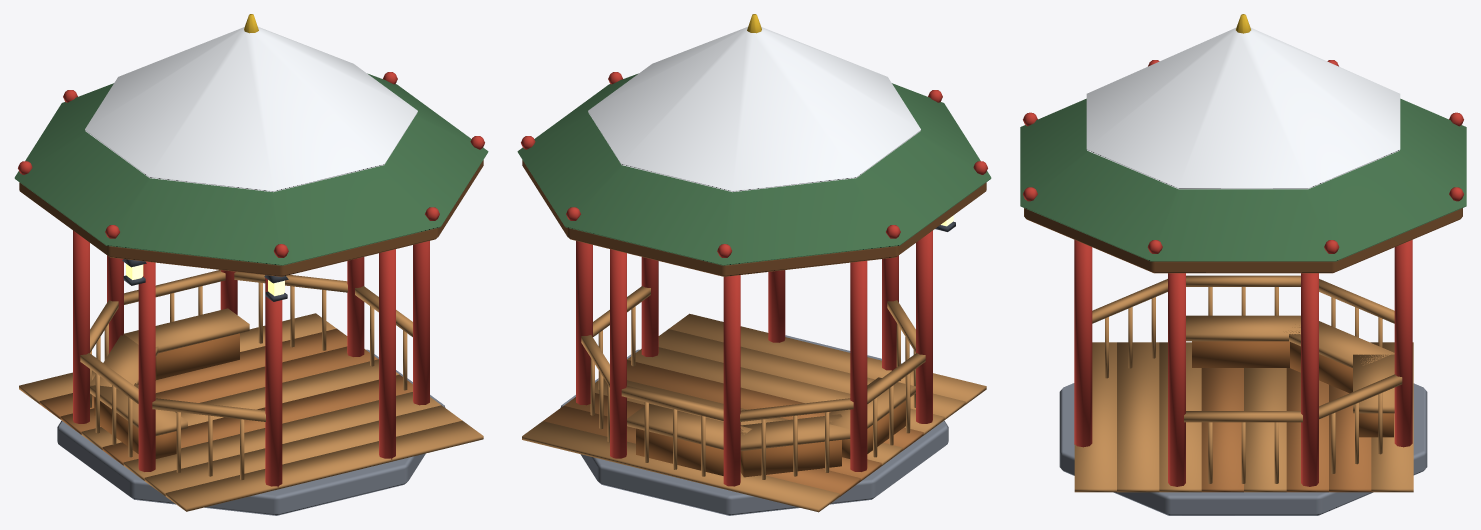
Rendered from deco_gazebo.glb.
3 views of the same model, side by side, from view 1: azimuth 30°, elevation 25°; view 2: azimuth 150°, elevation 25°; view 3: azimuth 270°, elevation 25° (orthographic).
Visible parts, largest first — view 1: deco_gazebo; view 2: deco_gazebo; view 3: deco_gazebo.
Part boxes in pixels (x1=…): deco_gazebo: x1=14, y1=14, x2=488, y2=515; deco_gazebo: x1=517, y1=14, x2=991, y2=515; deco_gazebo: x1=1020, y1=14, x2=1466, y2=515.
Bounding box in the file's own units: 3.48 × 3.65 × 3.48.
